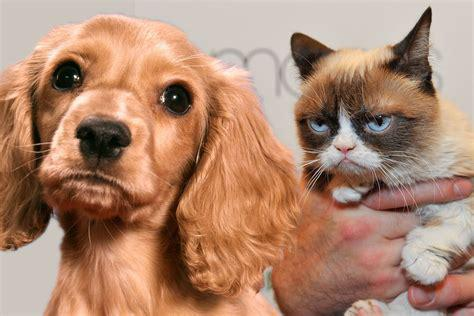cat: (291, 6, 474, 283)
dog: (1, 15, 295, 316)
